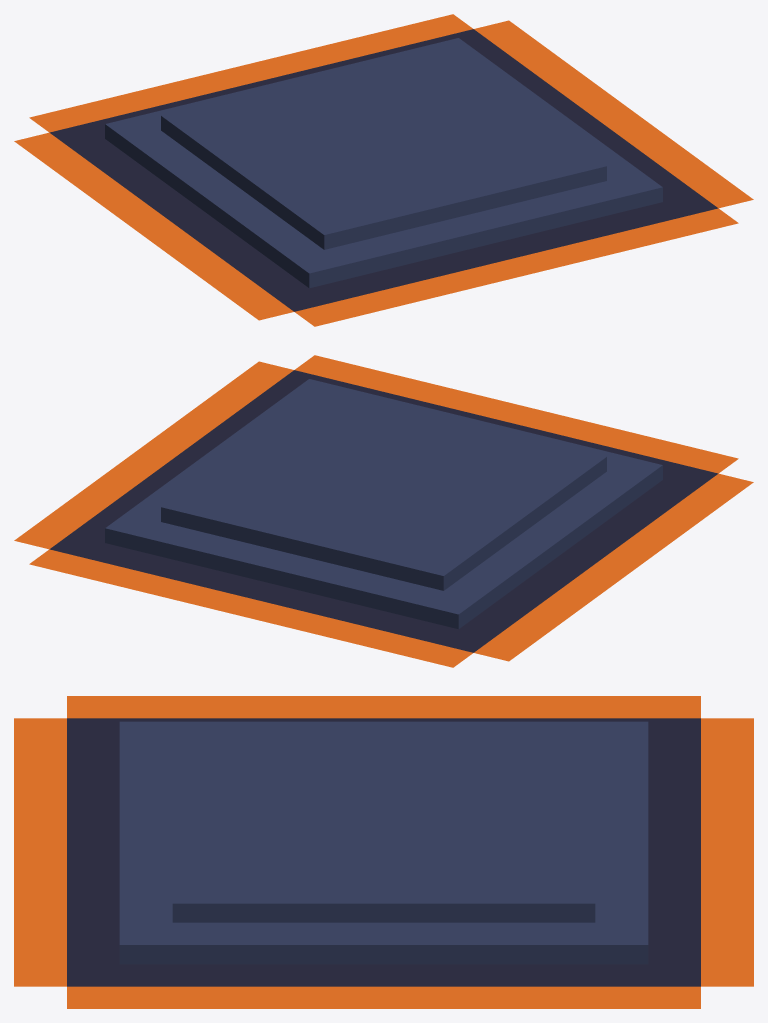
The model's file is Processor.fbx.
The picture shows the model from 3 angles, top to bottom: view 1: azimuth 30°, elevation 25°; view 2: azimuth 150°, elevation 25°; view 3: azimuth 270°, elevation 25°; orthographic projection. The views are drawn at different scales.
Visible parts, largest first — view 1: Processor; view 2: Processor; view 3: Processor.
Boxes of the visible parts, x1,y1,x2,y2 form: Processor: (14, 14, 753, 326); Processor: (14, 355, 753, 667); Processor: (14, 696, 753, 1008).
Size of the model in its own units: 175 by 175 by 10.
Materials: 1 (1 with a texture image).
